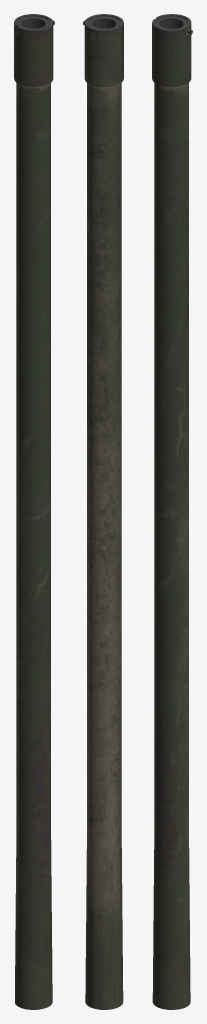
File: Gun_02.glb
3 views of the same model, side by side, from view 1: azimuth 30°, elevation 25°; view 2: azimuth 150°, elevation 25°; view 3: azimuth 330°, elevation 25° (orthographic).
Parts seen in each view (by area): view 1: set_0_group_0; view 2: set_0_group_0; view 3: set_0_group_0.
Part boxes in pixels (x1,y1,x2,y2): set_0_group_0: (14,14,54,1009); set_0_group_0: (83,14,123,1009); set_0_group_0: (152,14,192,1009).
Size of the model in its own units: 0.1888 by 4.78 by 0.1762.
1 material, 1 textured.
